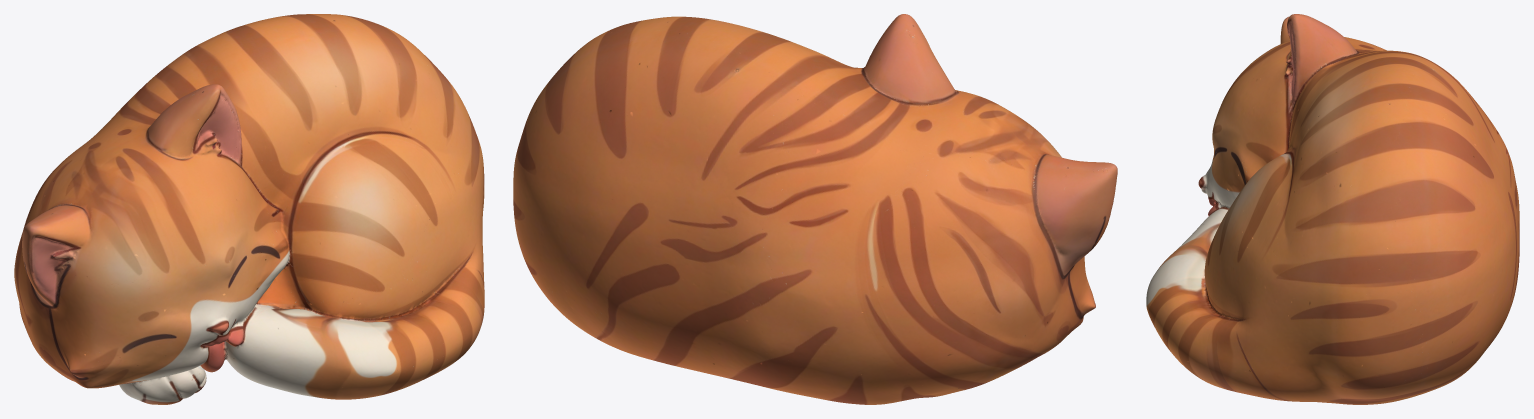
File: pet_cat_lick_2.glb
3 views of the same model, side by side, from view 1: azimuth 30°, elevation 25°; view 2: azimuth 150°, elevation 25°; view 3: azimuth 270°, elevation 25° (orthographic). The views are drawn at different scales.
Parts seen in each view (by area): view 1: Mesh_0.027; view 2: Mesh_0.027; view 3: Mesh_0.027.
Part boxes in pixels (bbox=[...]): Mesh_0.027: bbox=[14, 14, 484, 404]; Mesh_0.027: bbox=[513, 14, 1117, 404]; Mesh_0.027: bbox=[1146, 14, 1519, 404].
Size of the model in its own units: 1.1 by 0.6415 by 0.7587.
1 material, 1 textured.
